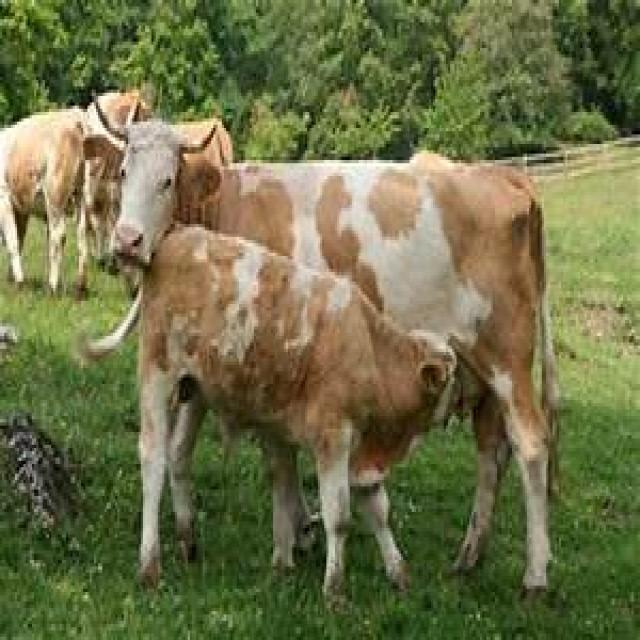animal: (90, 87, 562, 600), (69, 222, 456, 610), (0, 102, 87, 297)
